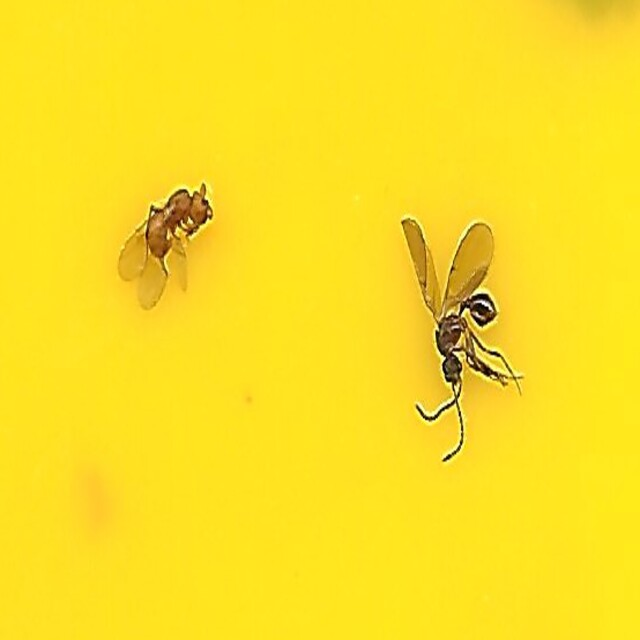Hymenoptera: (404, 218, 524, 460), (116, 180, 216, 308)
